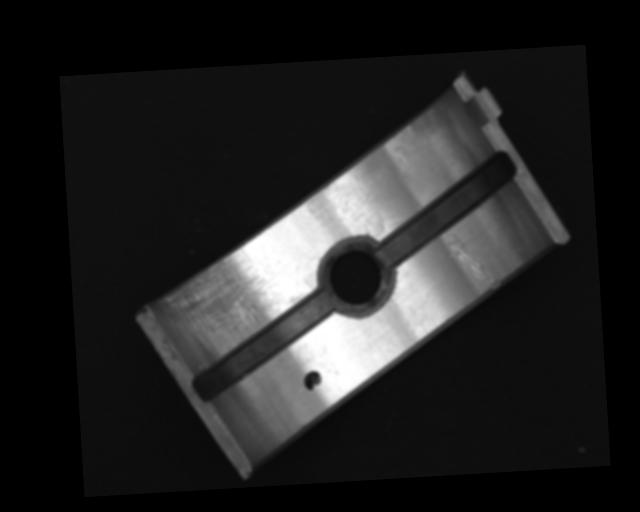blot: (302, 370, 322, 391)
bruise: (391, 144, 409, 166)
gap: (372, 150, 523, 265), (187, 291, 337, 399)
hole: (317, 235, 397, 317)
nick: (445, 230, 500, 293)
scratch: (156, 240, 302, 359)
